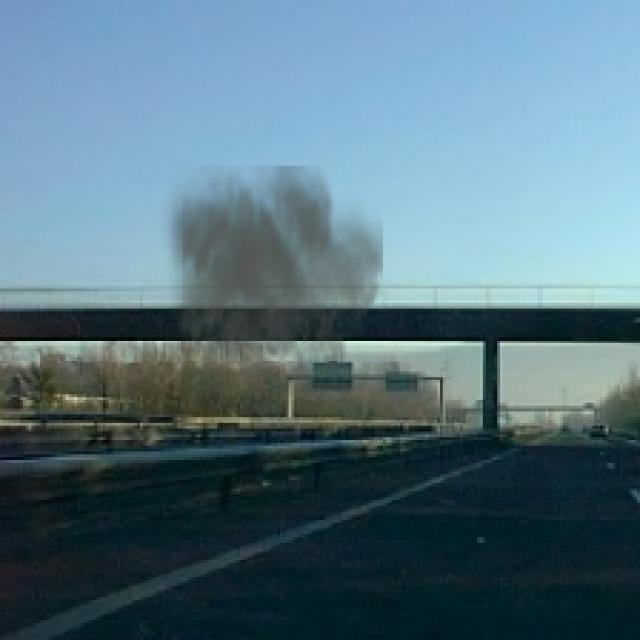smoke: (157, 166, 383, 400)
